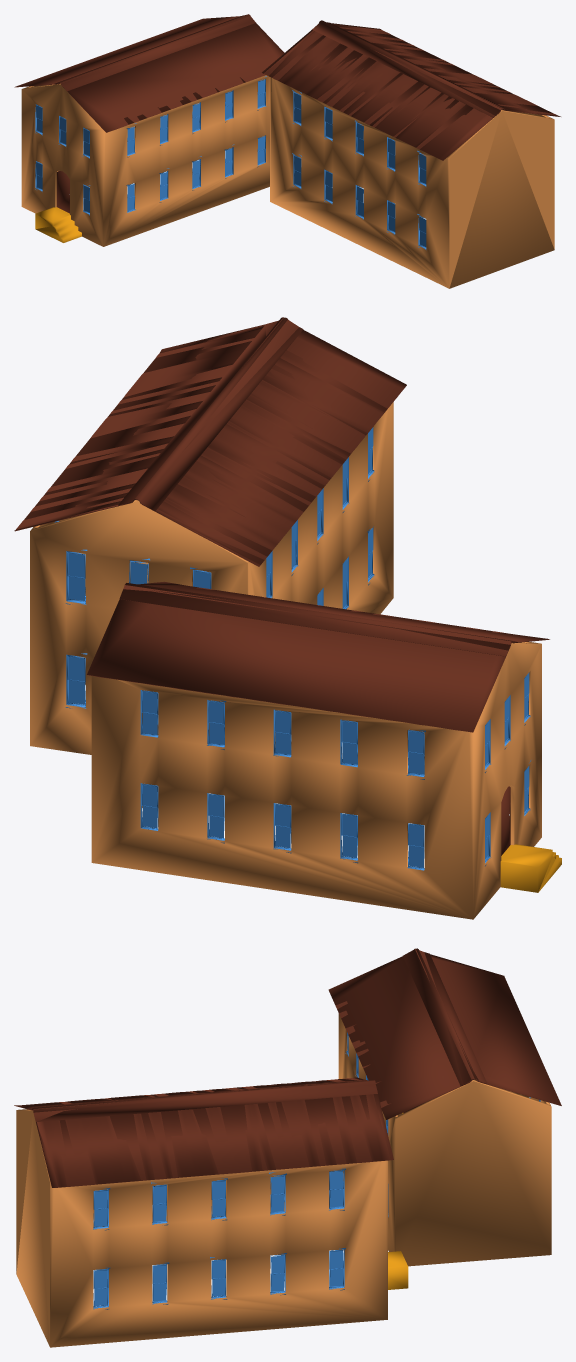
The model's file is villagefactory.glb.
3 renders of one model, top to bottom at view 1: azimuth 30°, elevation 25°; view 2: azimuth 150°, elevation 25°; view 3: azimuth 270°, elevation 25°, orthographic. The views are drawn at different scales.
Parts seen in each view (by area): view 1: village fac1; view 2: village fac1; view 3: village fac1.
Part boxes in pixels (left/top/right/bottom): village fac1: left=14, top=14, right=560, bottom=288; village fac1: left=14, top=317, right=561, bottom=919; village fac1: left=14, top=948, right=561, bottom=1347.
Size of the model in its own units: 161 by 65.63 by 161.
1 material, 1 textured.
